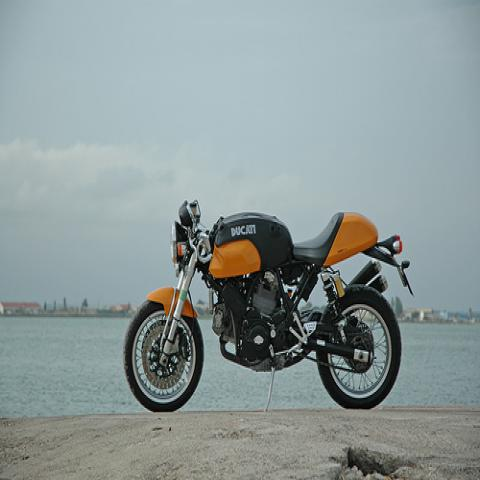motorcycle: (120, 197, 416, 412)
